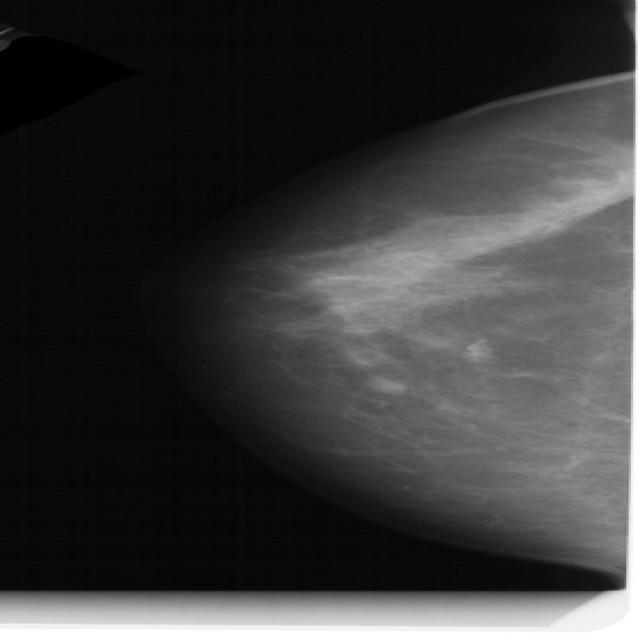tumour: (362, 376, 403, 394)
